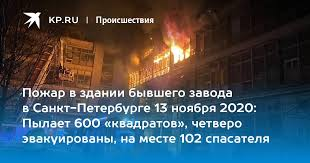fire: (116, 22, 230, 82)
